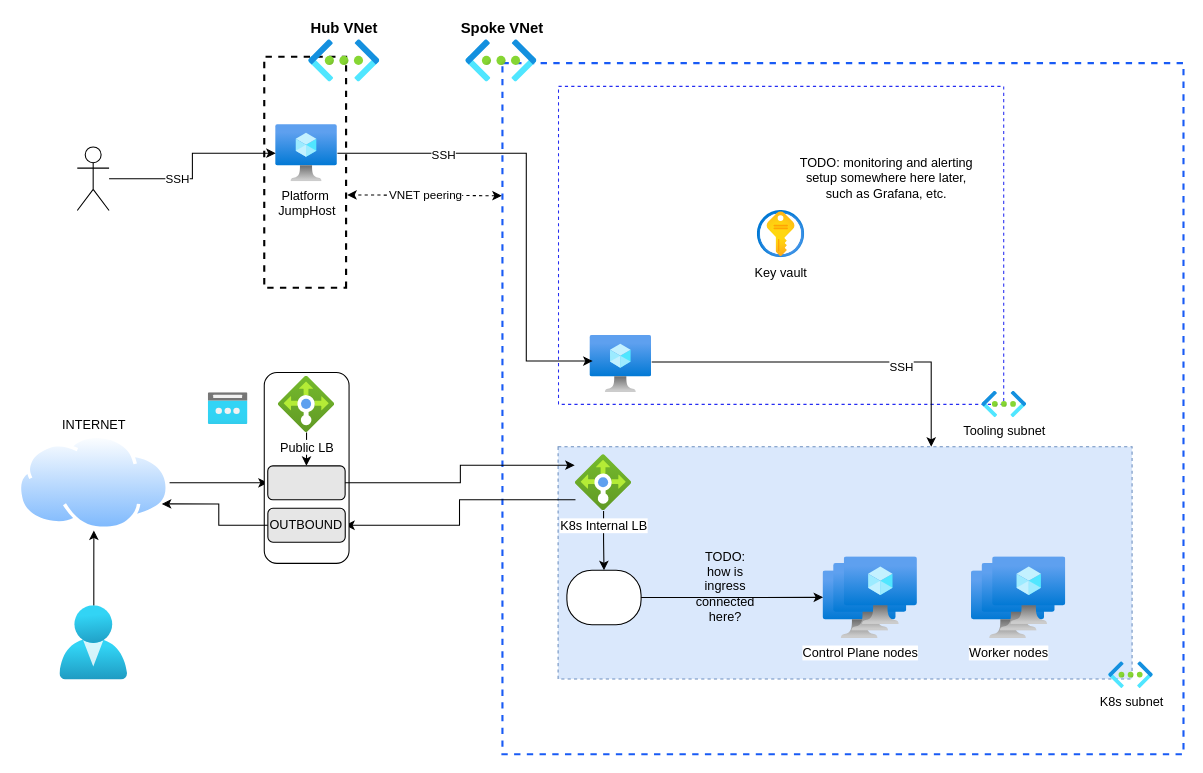
Image size: 1203x773. Some labels were removed from this diagram. Here are the shapes that lost their labels. From the top down, the centre of each, then its label:
At [92,178]: "ADMINS".
At [620,363]: "mgmt-vm".
At [228,408]: "LB Public IP".
At [306,482]: "INBOUD".
At [603,597]: "Ingress Controller".
At [93,642]: "USERS".
